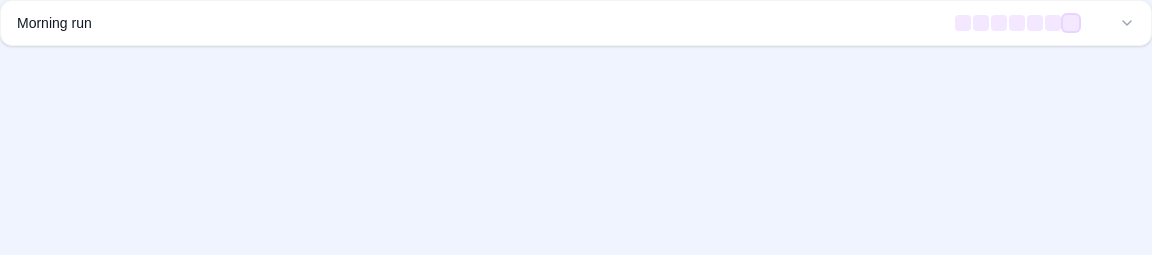
Test: HabitCard — weekly target counter › shows grouped 30-day grid when weeklyTarget > 1 and expanded
The image size is (1152, 255).
Step 1. Click the button named "развернуть" → (1127, 23), box [1119,15,1135,31]
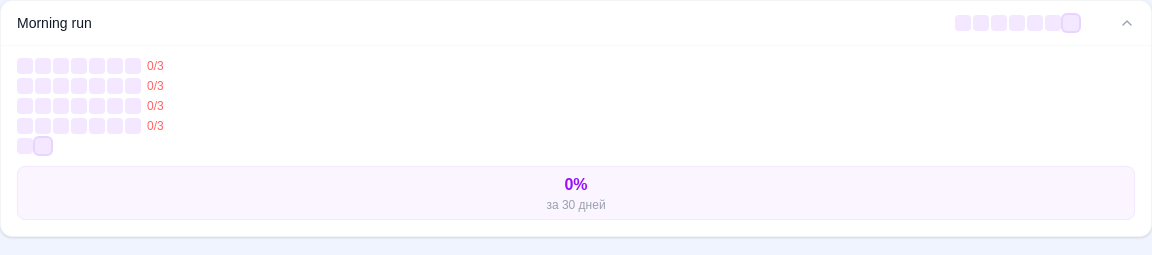
Now the element named "30-дневный график" is shown, box [17,58,164,154]
